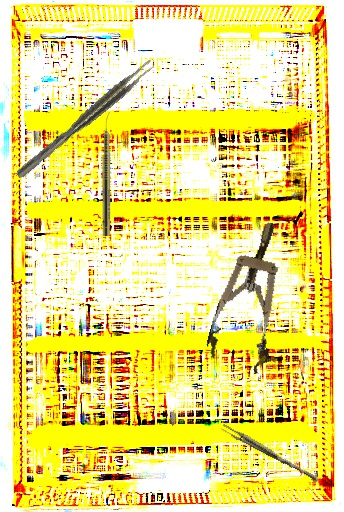Handpiece: (102, 112, 112, 236)
Speculum: (202, 214, 302, 377)
Tissue Forceps: (11, 57, 159, 180), (219, 422, 321, 484)
